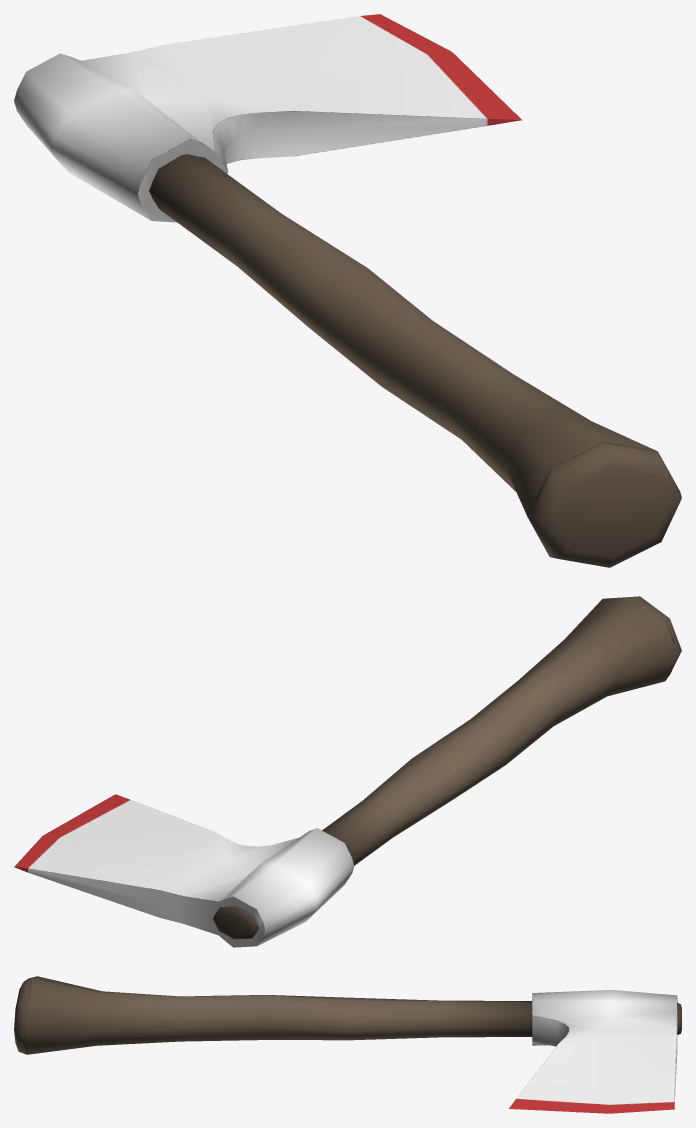
File: Axe_Normal.fbx
The picture shows the model from 3 angles, top to bottom: view 1: azimuth 30°, elevation 25°; view 2: azimuth 150°, elevation 25°; view 3: azimuth 270°, elevation 25°; orthographic projection. The views are drawn at different scales.
Visible parts, largest first — view 1: Axe_Normal; view 2: Axe_Normal; view 3: Axe_Normal.
Boxes of the visible parts, x1,y1,x2,y2 form: Axe_Normal: (14,14,681,567); Axe_Normal: (14,596,681,947); Axe_Normal: (14,976,681,1113).
Bounding box in the file's own units: 47.52 × 13.49 × 114.
